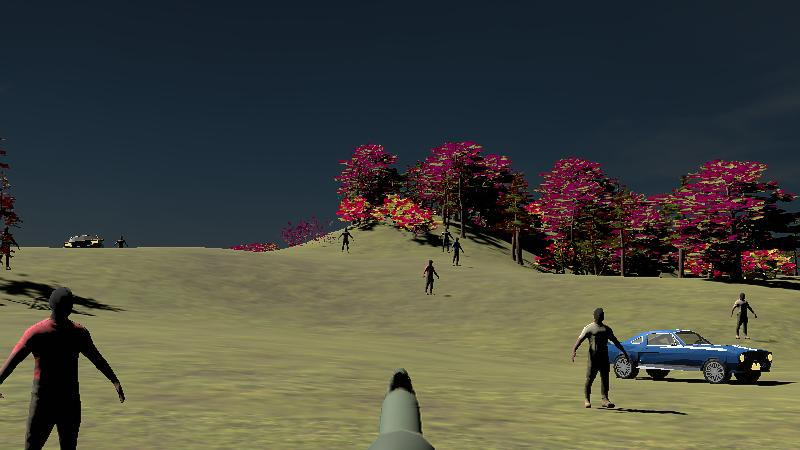Human: (0, 282, 128, 447), (571, 307, 629, 410)
car: (604, 326, 775, 386)
